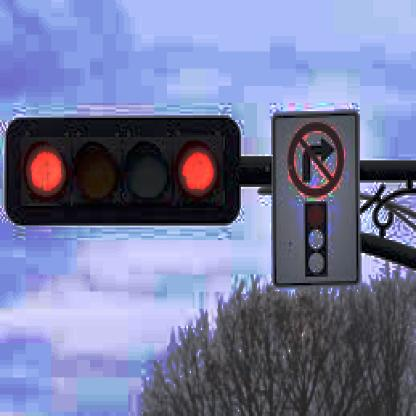No right turn: (282, 121, 350, 196)
